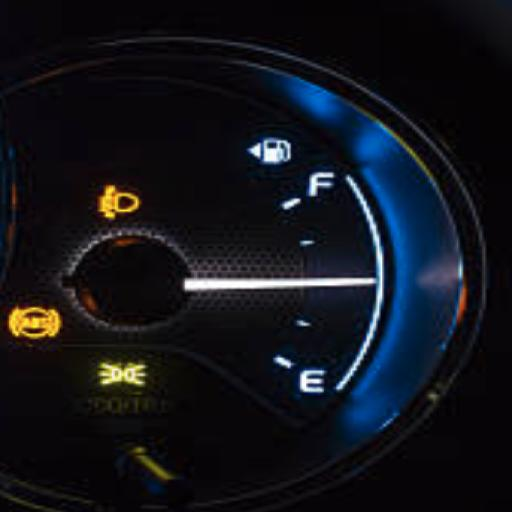empty: (298, 367, 324, 393)
fuel_icon: (242, 133, 298, 169)
full: (308, 170, 336, 196)
guage_area: (0, 20, 491, 512)
needle_center: (57, 221, 213, 329)
needle_tip: (335, 267, 381, 296)
